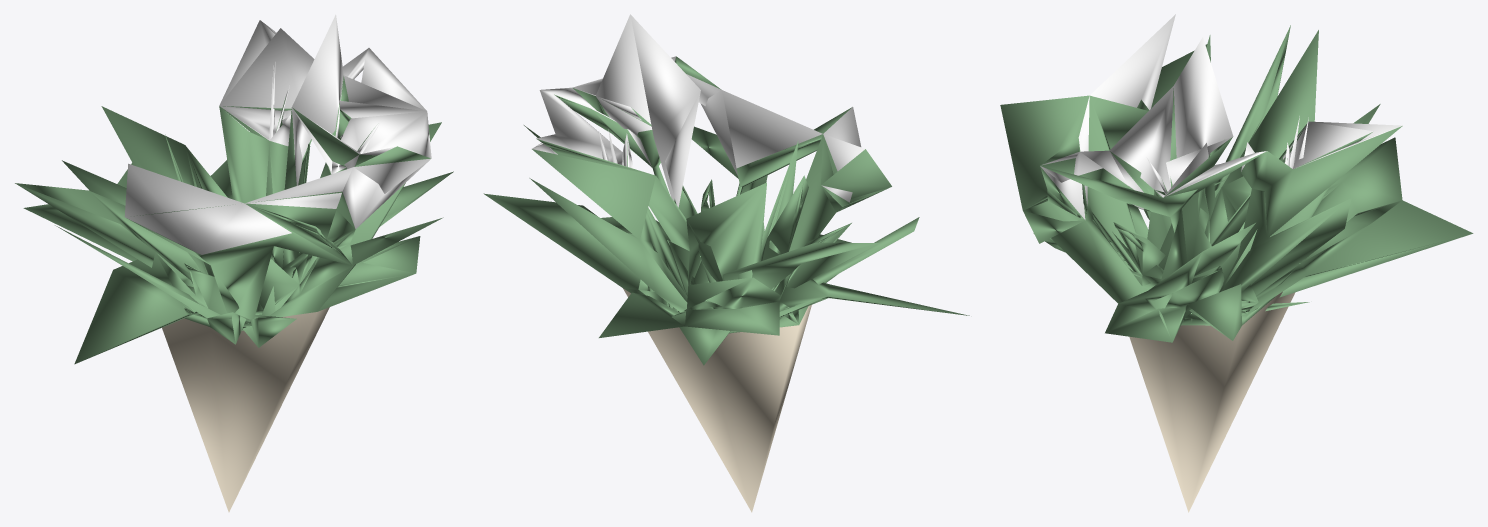
3 views of the same model, side by side, from view 1: azimuth 30°, elevation 25°; view 2: azimuth 150°, elevation 25°; view 3: azimuth 270°, elevation 25° (orthographic). The views are drawn at different scales.
Parts seen in each view (by area): view 1: Lily arrangement - Meshy silhouette; view 2: Lily arrangement - Meshy silhouette; view 3: Lily arrangement - Meshy silhouette.
Part boxes in pixels (left/top/right/bottom): Lily arrangement - Meshy silhouette: left=15, top=14, right=453, bottom=512; Lily arrangement - Meshy silhouette: left=483, top=14, right=969, bottom=512; Lily arrangement - Meshy silhouette: left=1000, top=14, right=1473, bottom=512.
Bounding box in the file's own units: 0.7695 × 0.7981 × 0.6338.
Materials: 1 (1 with a texture image).
